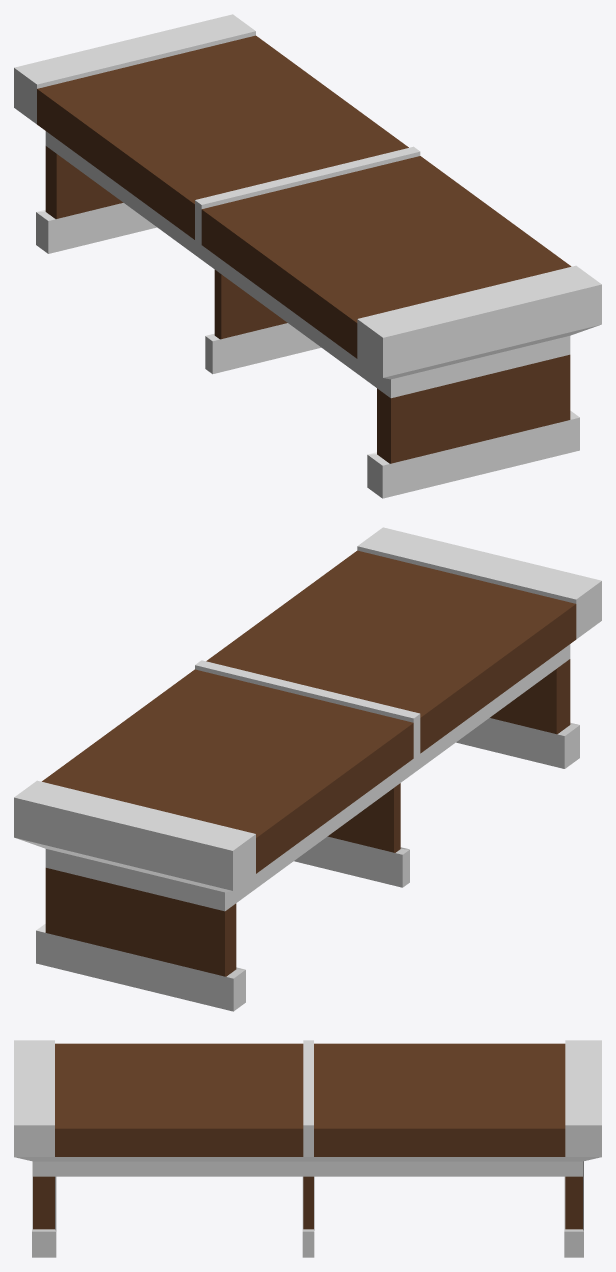
Rendered from FactoryTable.fbx.
3 renders of one model, top to bottom at view 1: azimuth 30°, elevation 25°; view 2: azimuth 150°, elevation 25°; view 3: azimuth 270°, elevation 25°, orthographic. The views are drawn at different scales.
Visible parts, largest first — view 1: Cube.001; view 2: Cube.001; view 3: Cube.001.
Part boxes in pixels (bbox=[...]): Cube.001: bbox=[14, 14, 601, 498]; Cube.001: bbox=[14, 527, 601, 1011]; Cube.001: bbox=[14, 1040, 601, 1257].
Size of the model in its own units: 238 by 178 by 694.
